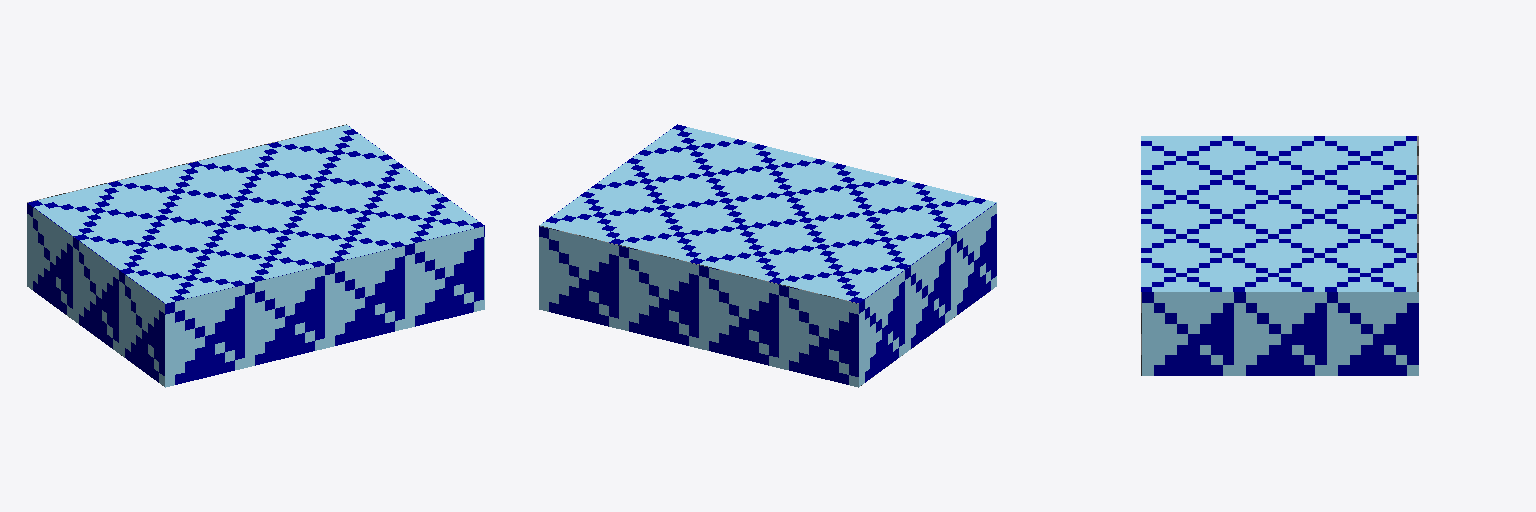
The picture shows the model from 3 angles: view 1: azimuth 30°, elevation 25°; view 2: azimuth 150°, elevation 25°; view 3: azimuth 270°, elevation 25°; orthographic projection.
Parts seen in each view (by area): view 1: Cube; view 2: Cube; view 3: Cube.
Boxes of the visible parts, box(x1,y1,x2,y2) form: Cube: box(27, 124, 484, 387); Cube: box(539, 124, 996, 387); Cube: box(1141, 136, 1418, 375).
Bounding box in the file's own units: 4 × 1 × 3.
Materials: 1 (1 with a texture image).